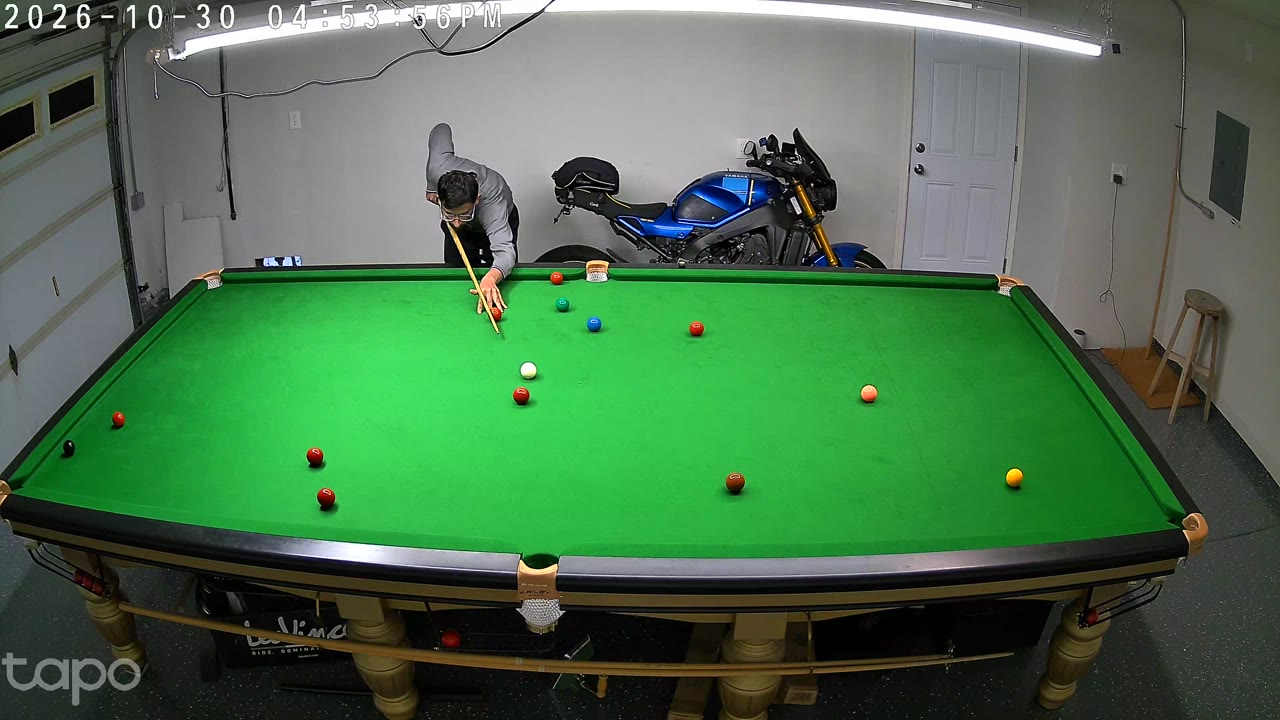black: (62, 438, 76, 459)
blue: (587, 315, 601, 336)
brown: (726, 471, 744, 496)
green: (556, 296, 569, 315)
pink: (860, 384, 876, 403)
red: (317, 485, 336, 513), (307, 445, 323, 470), (514, 385, 529, 408), (690, 320, 704, 340), (112, 410, 125, 430), (551, 271, 563, 288)
white: (520, 361, 537, 385)
yellow: (1006, 467, 1022, 489)
